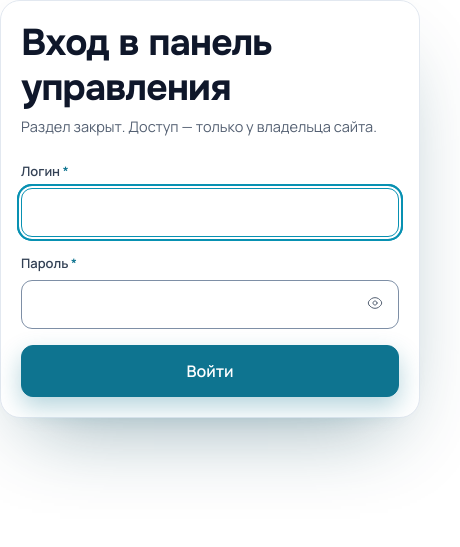
Test: Форма входа в панель › ошибка поля снимается на первом же вводе
Step 1. Click the button "Войти" → (210, 371), box [21, 345, 399, 397]
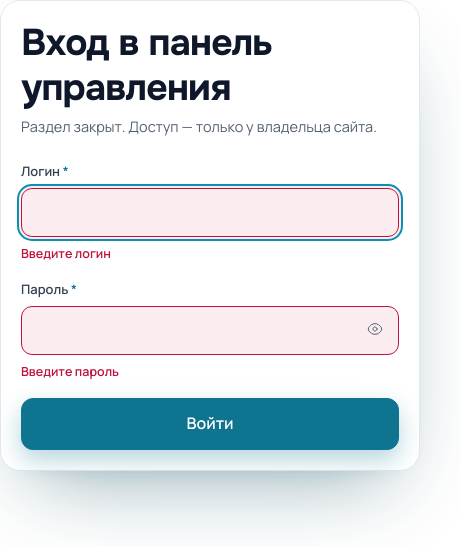
Expected: the text "Введите логин" is shown, [21, 245, 111, 262]
Step 2. Type "a" into the field labelled "Логин" → (210, 212), box [21, 188, 399, 237]
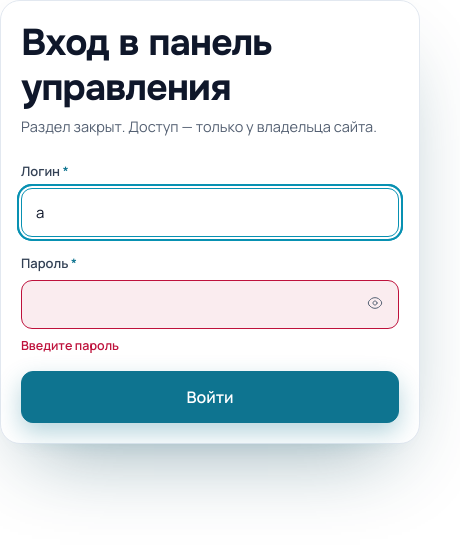
Expected: the text "Введите логин" is gone
